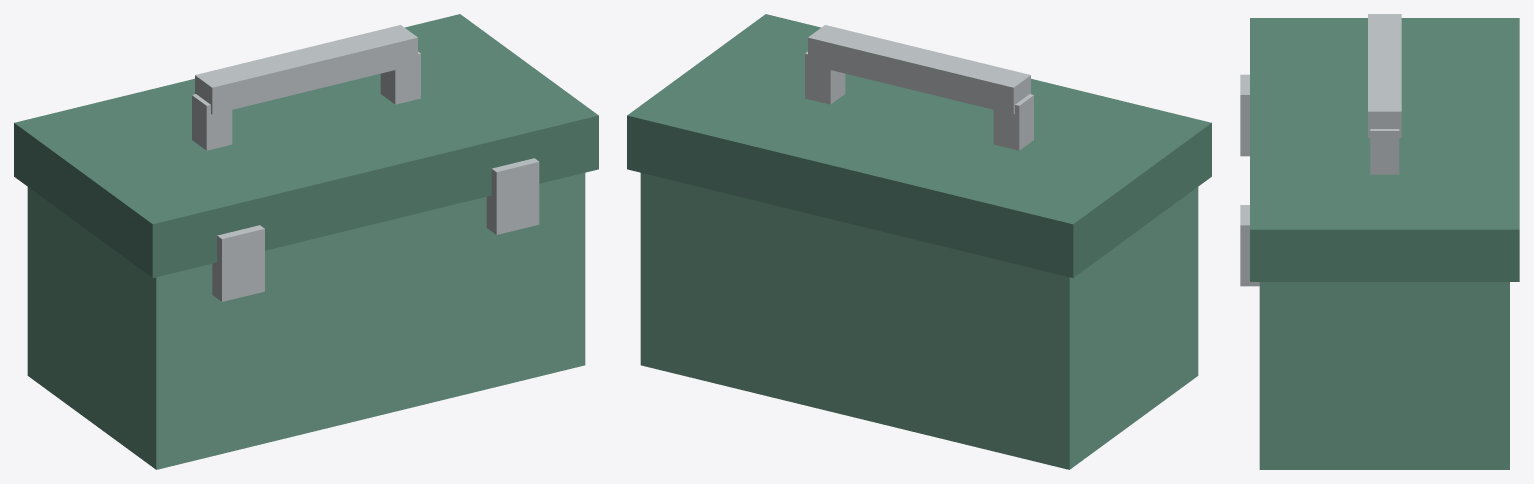
File: Tackle_Box.glb
3 renders of one model, left to right at view 1: azimuth 30°, elevation 25°; view 2: azimuth 150°, elevation 25°; view 3: azimuth 270°, elevation 25°, orthographic. The views are drawn at different scales.
Parts seen in each view (by area): view 1: Tackle_Box; view 2: Tackle_Box; view 3: Tackle_Box.
Boxes of the visible parts, <box> form: Tackle_Box: <box>14,14,598,469</box>; Tackle_Box: <box>627,14,1211,469</box>; Tackle_Box: <box>1240,14,1519,469</box>.
Bounding box in the file's own units: 0.52 × 0.35 × 0.29.
